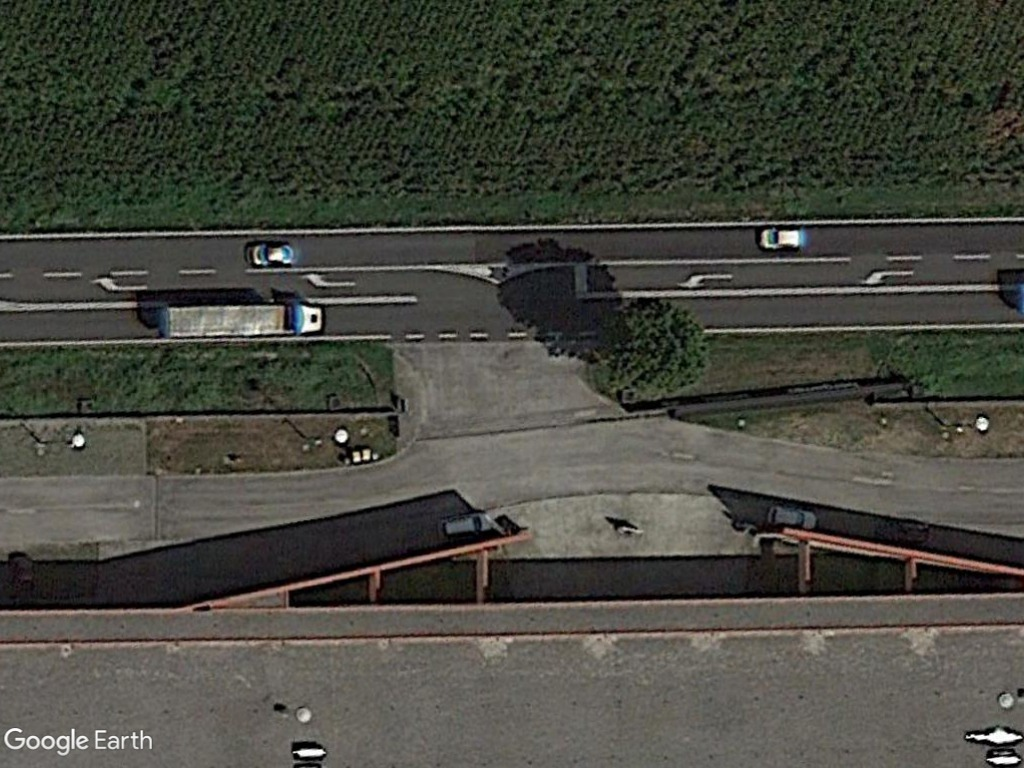car: (241, 238, 298, 268), (756, 225, 806, 251)
longvehicle: (148, 298, 329, 341)
